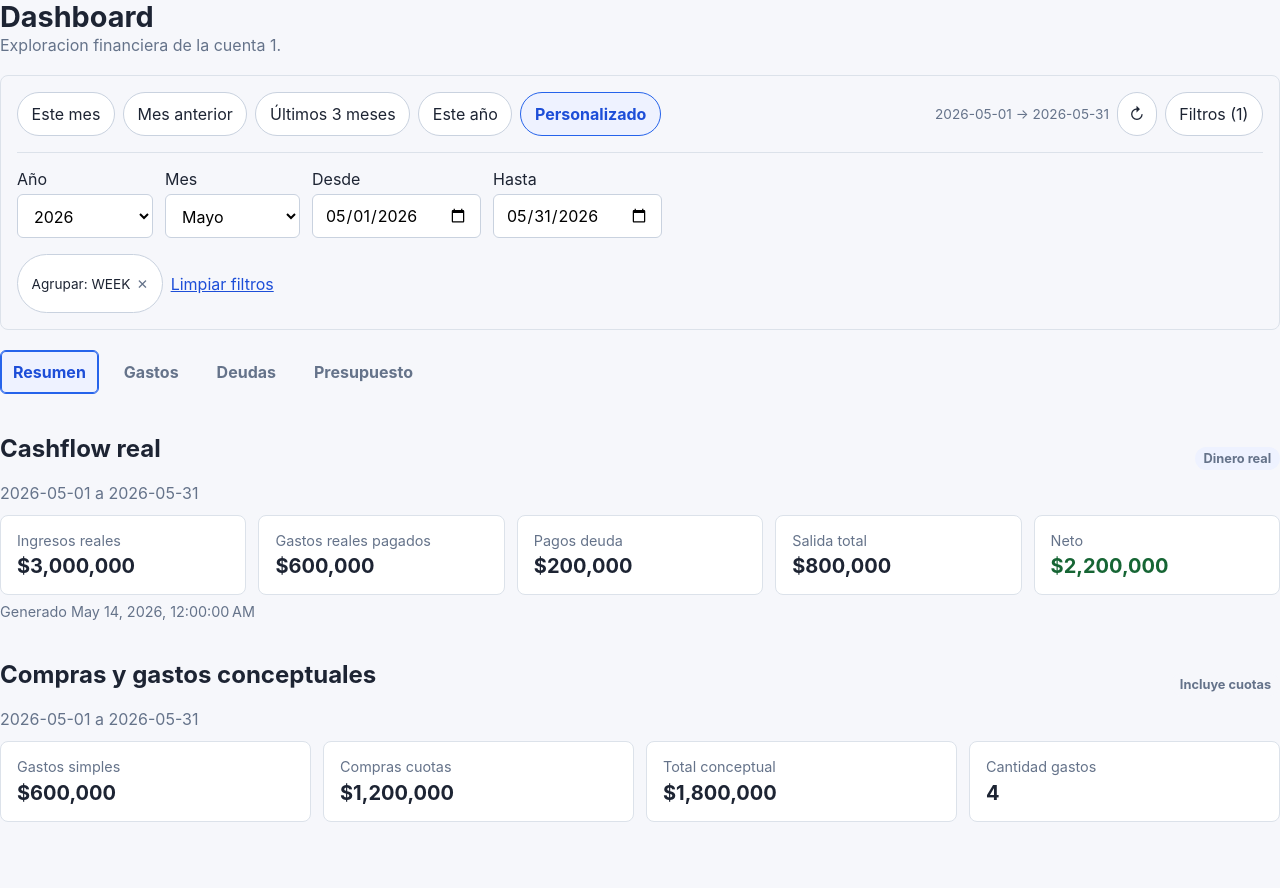
it: DashboardPageComponent › shows expense breakdowns in the expenses tab
What coordinates should you click on to do the following:
click the tab "Gastos"
I would click on:
 (151, 372)
Its box is [111,350,192,394].
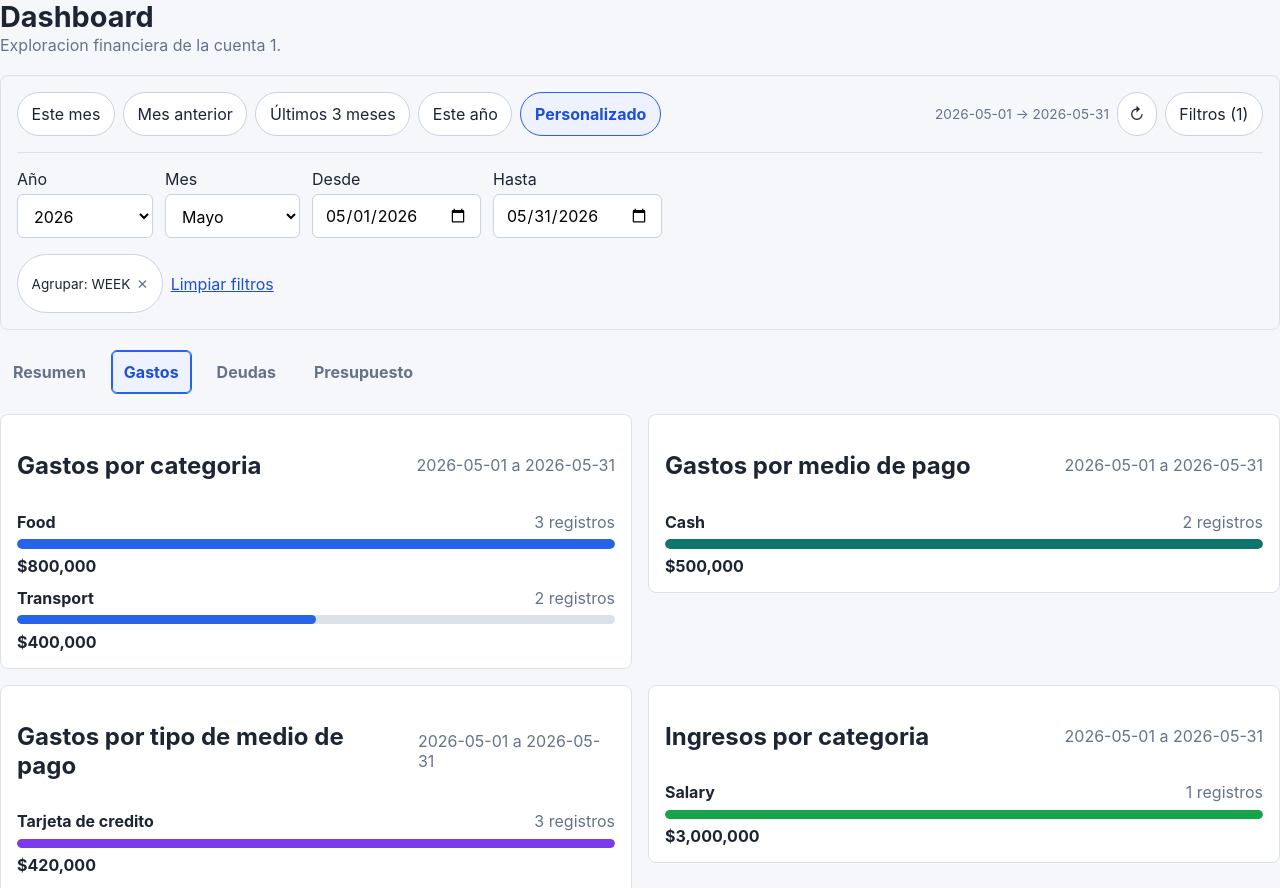
Expected: the text "Gastos por categoria" is shown, [17,451,261,480]
Expected: the text "Food" is shown, [17,512,56,532]
Expected: the text "Gastos por medio de pago" is shown, [665,451,971,480]
